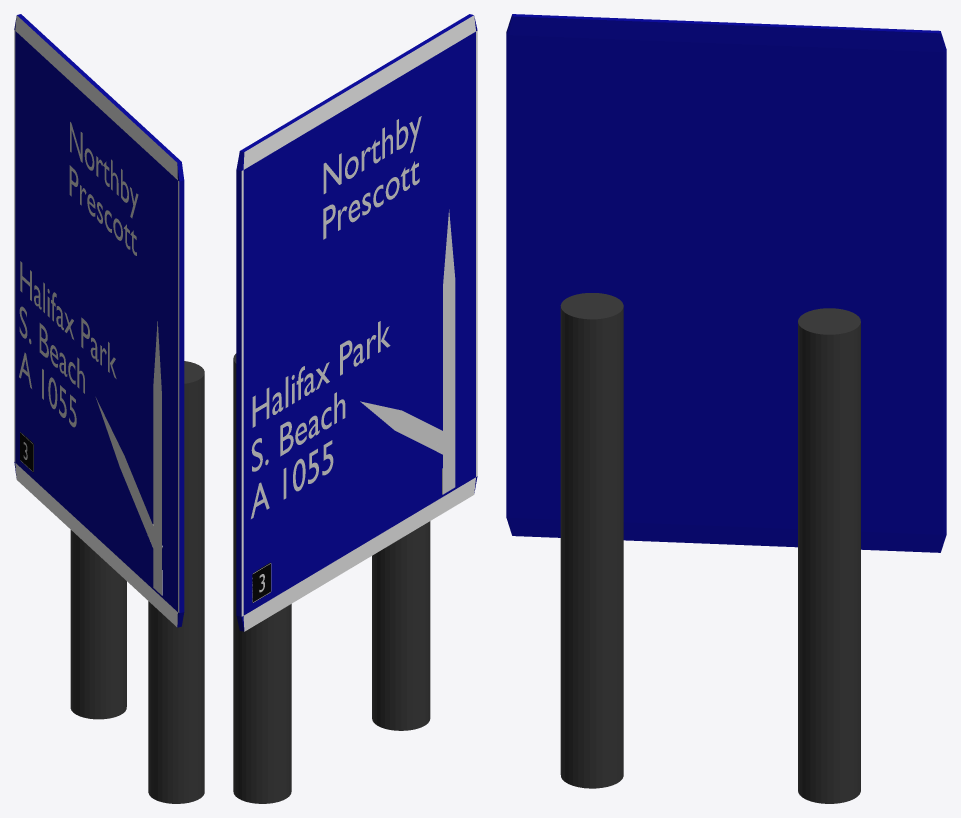
The model's file is JCT3JunctionSign2.fbx.
3 renders of one model, left to right at view 1: azimuth 30°, elevation 25°; view 2: azimuth 150°, elevation 25°; view 3: azimuth 270°, elevation 25°, orthographic. The views are drawn at different scales.
Visible parts, largest first — view 1: Sign, Sign.005, Sign.003, Sign.006, Sign.004, Sign.007; view 2: Sign, Sign.005, Sign.003, Sign.006, Sign.004, Sign.007; view 3: Sign.
Part boxes in pixels (<box>): Sign: <box>14,14,204,803</box>; Sign.005: <box>19,261,116,427</box>; Sign.003: <box>153,321,162,595</box>; Sign.006: <box>69,122,138,255</box>; Sign.004: <box>95,397,162,556</box>; Sign.007: <box>20,432,33,472</box>; Sign: <box>233,14,477,803</box>; Sign.005: <box>251,321,390,518</box>; Sign.003: <box>442,209,455,494</box>; Sign.006: <box>323,116,421,239</box>; Sign.004: <box>360,401,449,454</box>; Sign.007: <box>252,562,271,602</box>; Sign: <box>506,14,946,803</box>.
Bounding box in the file's own units: 115 × 824 × 443.
